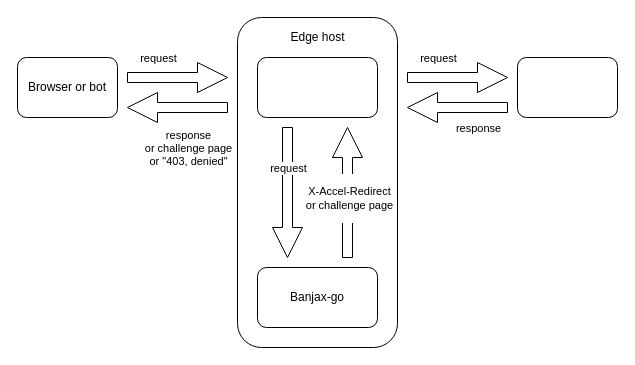
The diagram is 635 pixels wide and 365 high, and some of its shapes have lost their labels. The centre of each missing label's shape, as x and y in pixels:
Nginx: the point at 317,87
Origin server: the point at 567,87
